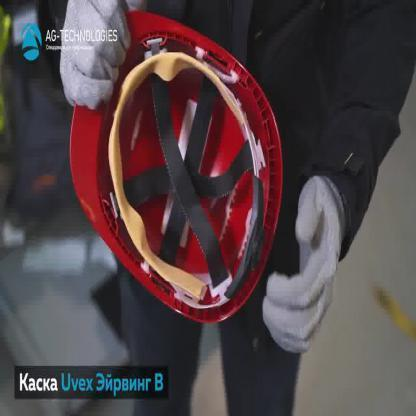gloves: (262, 172, 346, 358), (58, 0, 132, 112)
helmet: (67, 0, 284, 327)
